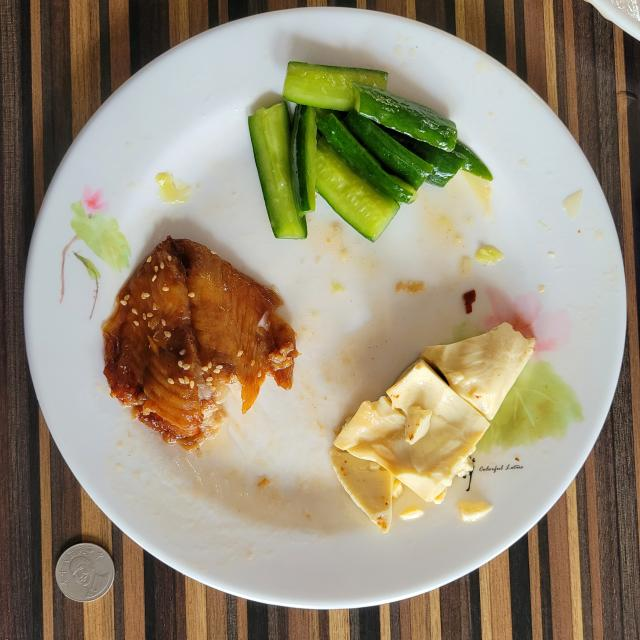Kabayaki sea bream fillet: (102, 236, 298, 450)
coin: (55, 542, 115, 602)
cucumber: (249, 61, 492, 241)
